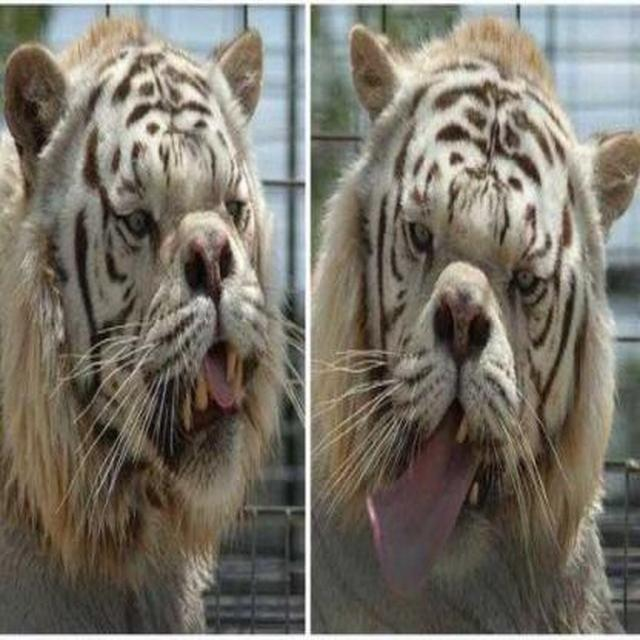tiger: (307, 14, 639, 633), (0, 13, 305, 632)
